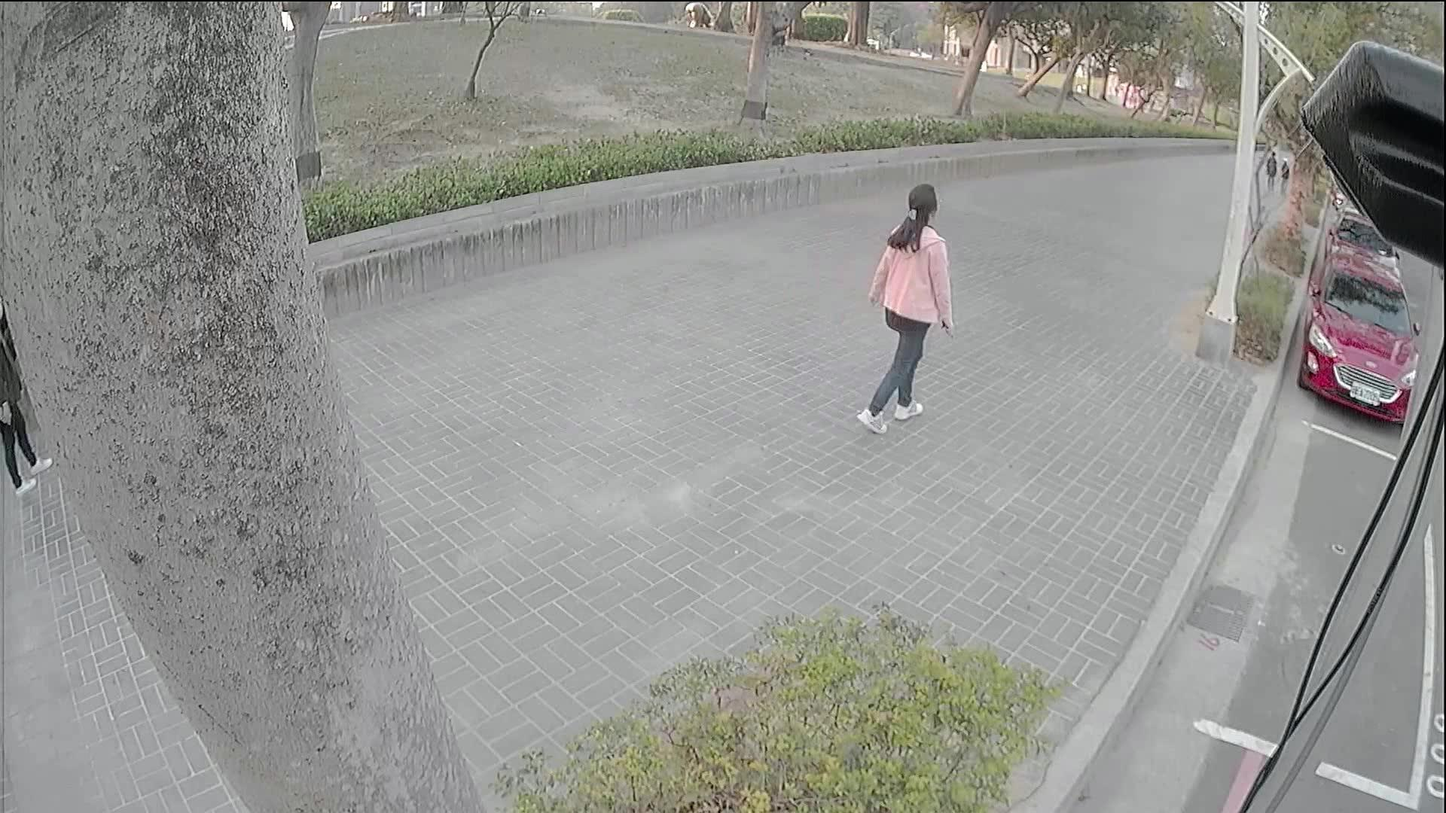person: (855, 182, 954, 432), (0, 328, 52, 495)
